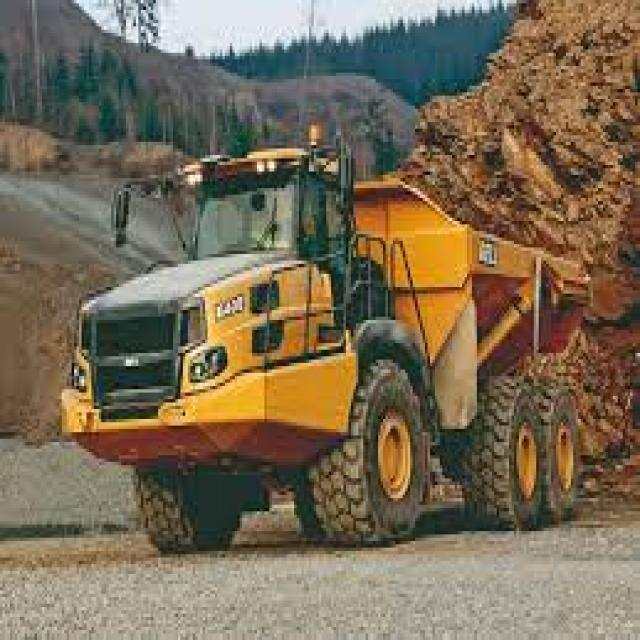dump_truck: (62, 135, 613, 558)
